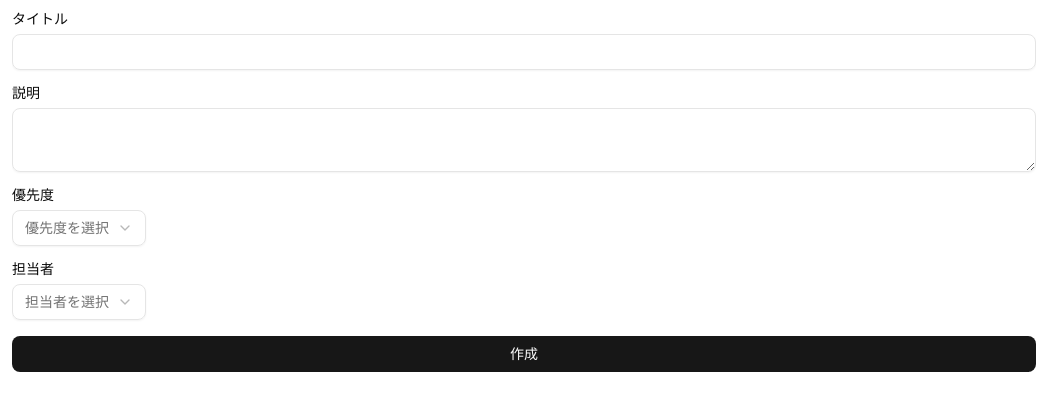
Test case: TicketCreateForm › サーバーエラーの field details を表示する
The image size is (1048, 417).
Step 1. Type "New ticket" into the field labelled "タイトル" → (524, 52), box x1=12 y1=34 x2=1036 y2=70
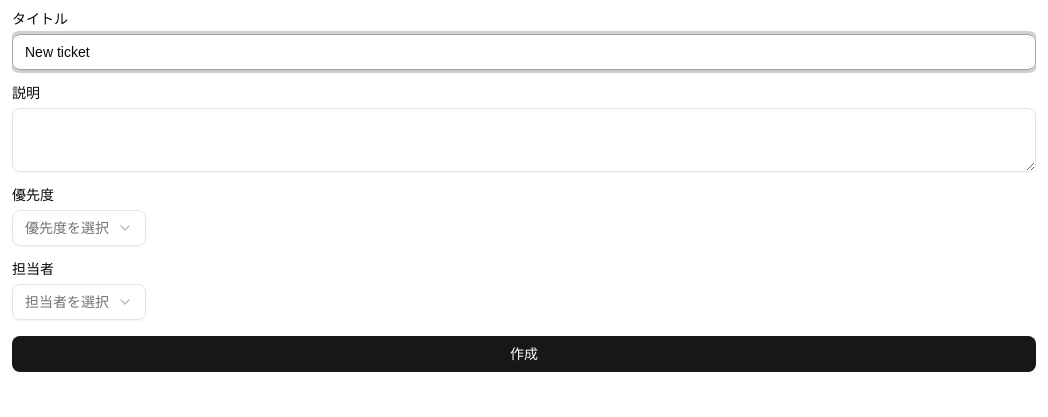
Step 2. Click the button "作成" → (524, 354), box x1=12 y1=336 x2=1036 y2=372
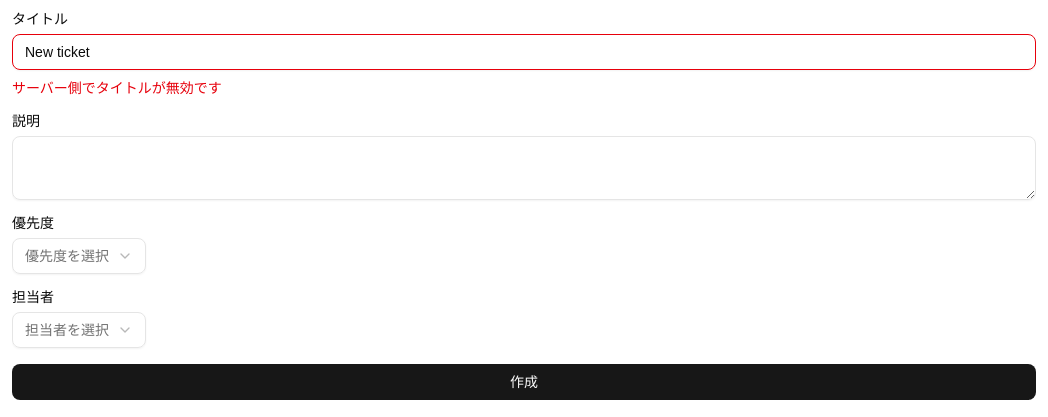
Now the text "サーバー側でタイトルが無効です" is shown, box x1=12 y1=80 x2=222 y2=96
